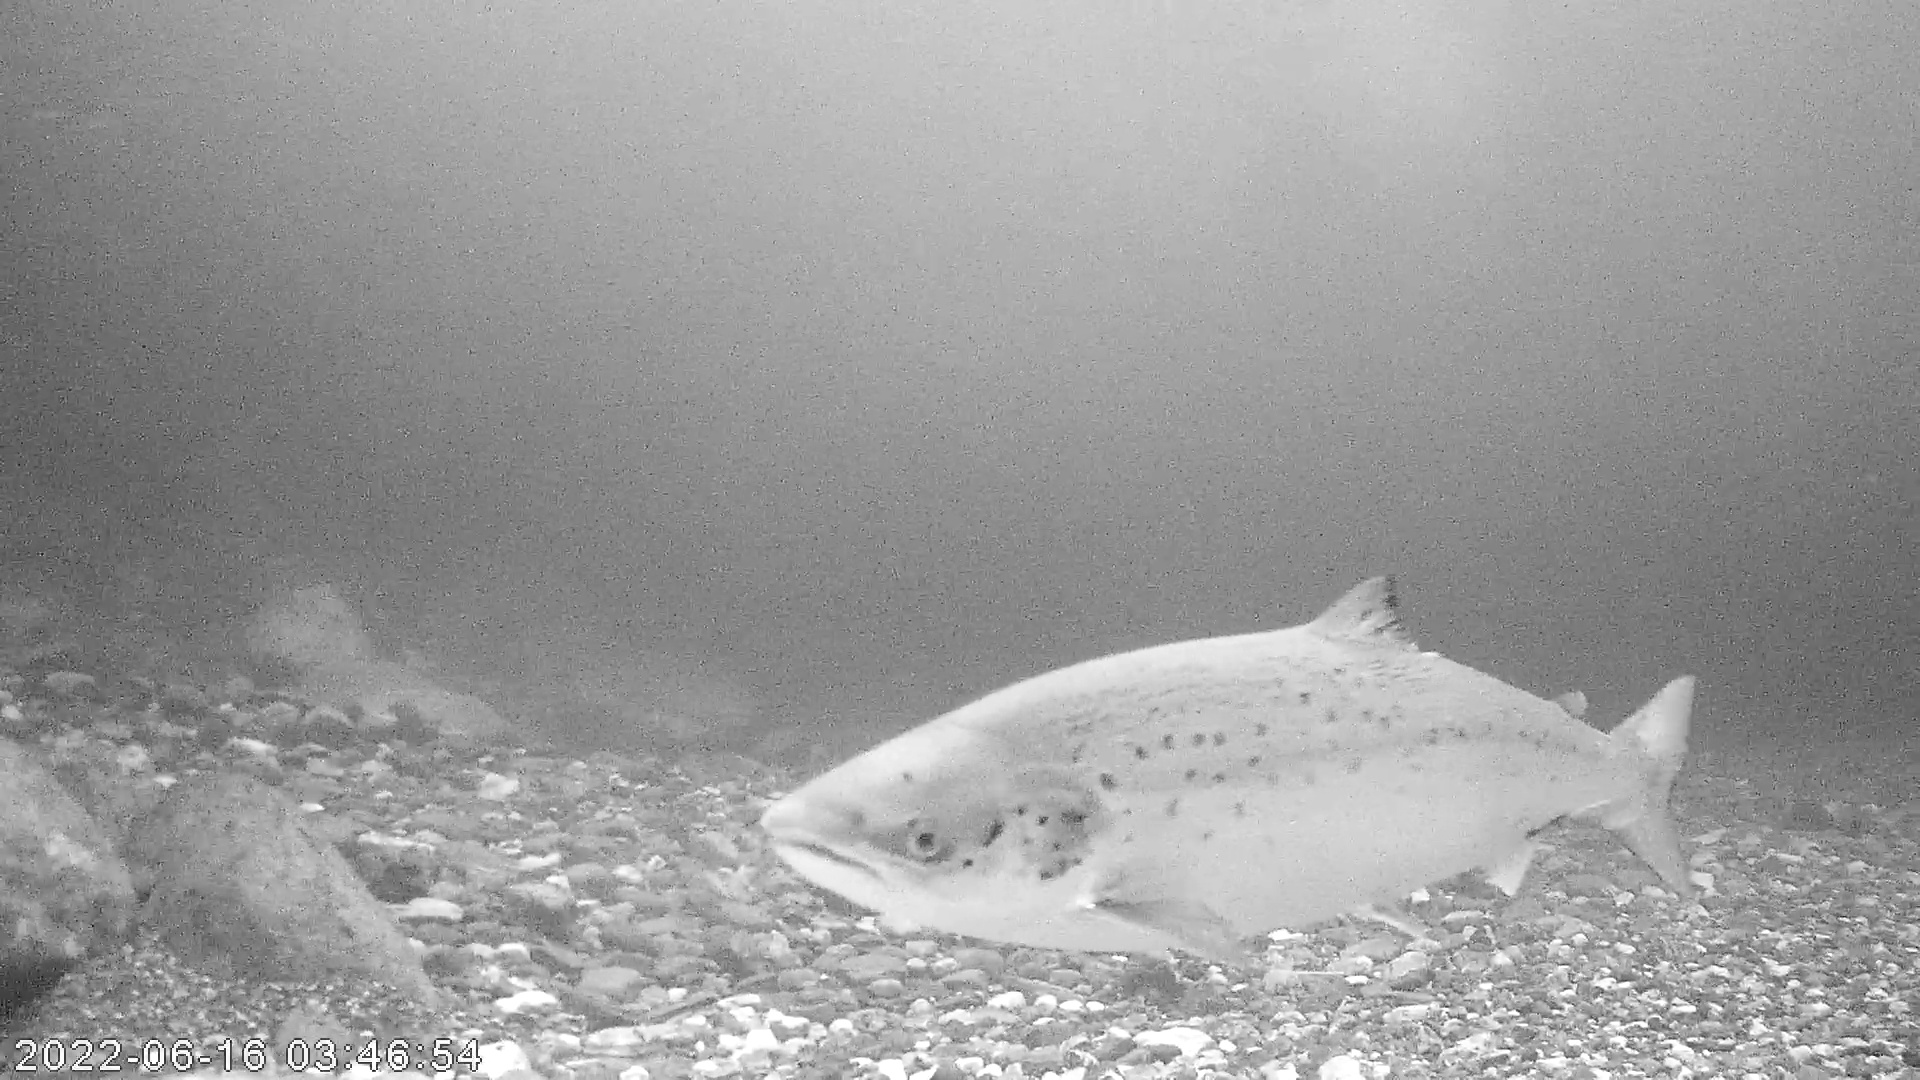salmon: (758, 572, 1701, 967)
